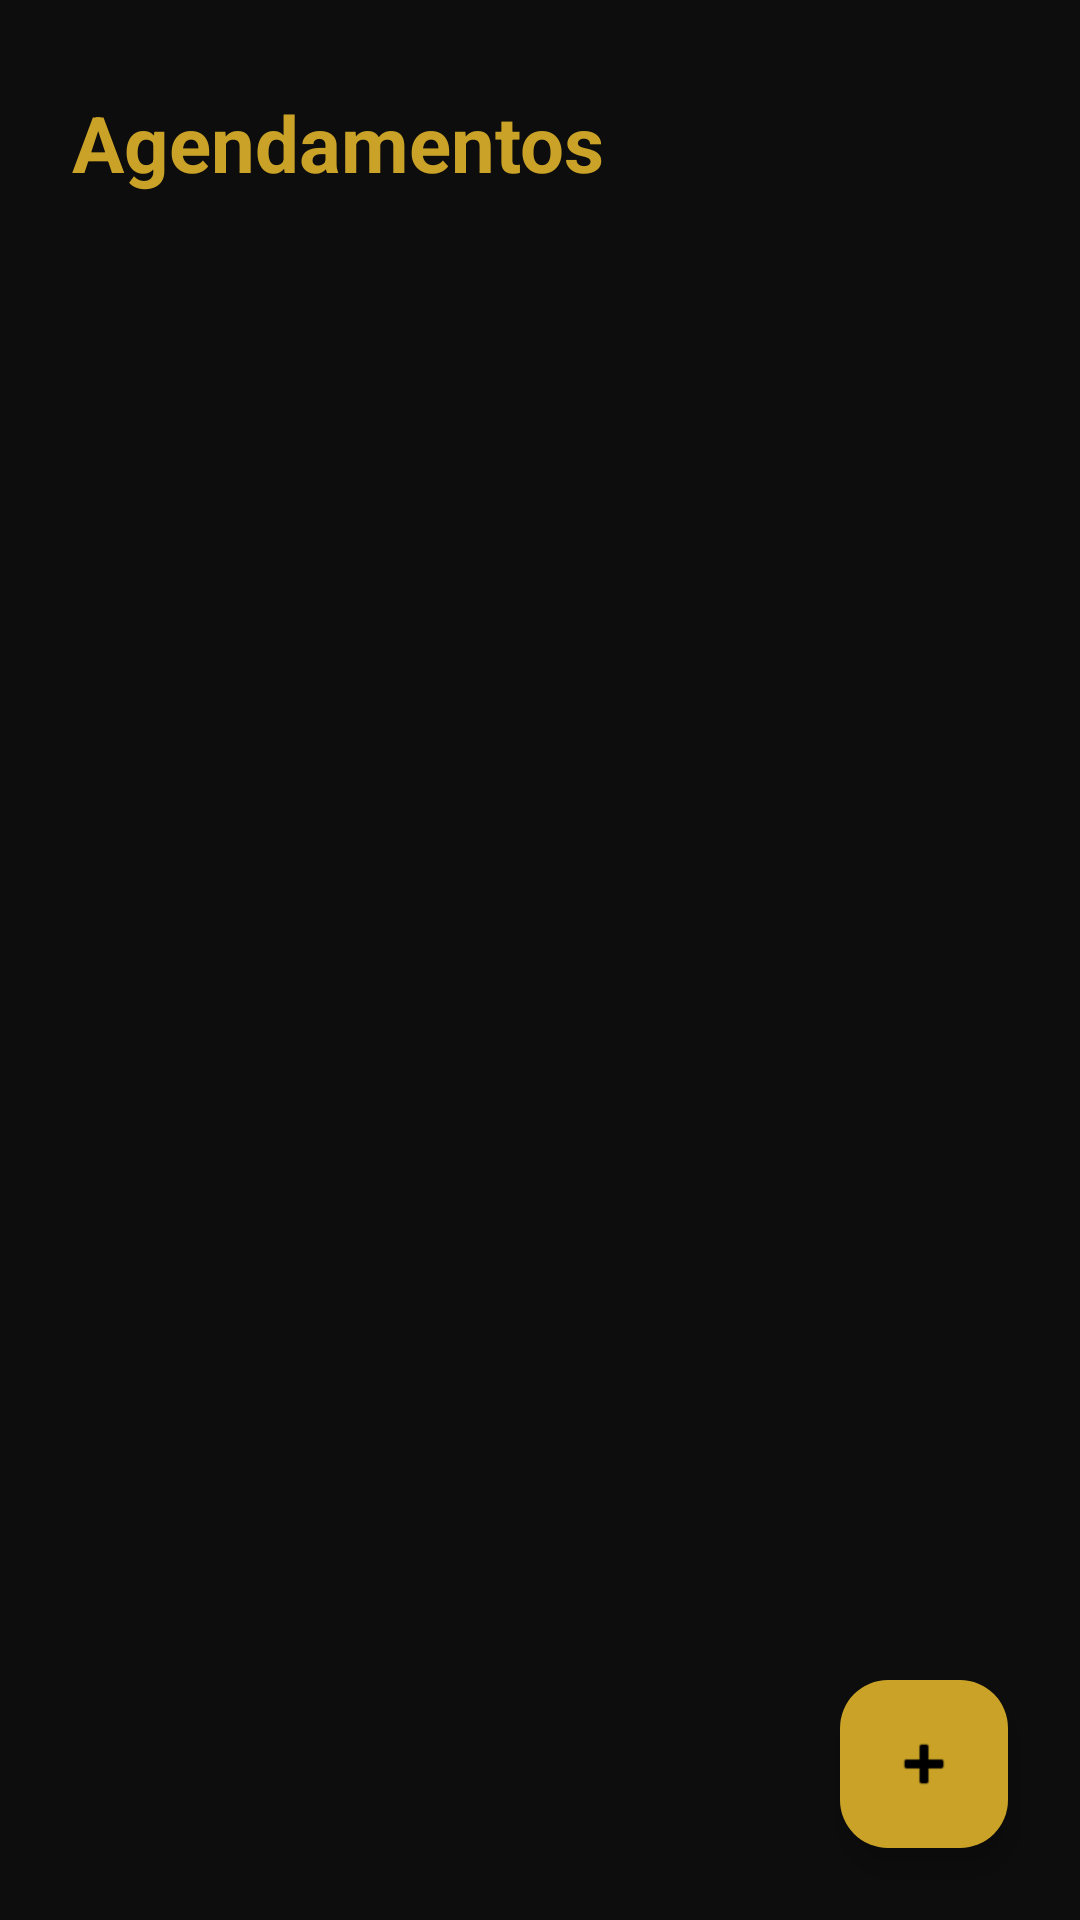

Icons on this 1080x1920 Android screen, each with its box as region(x1, y1, x2, y2):
Novo agendamento: region(840, 1680, 1008, 1848)
